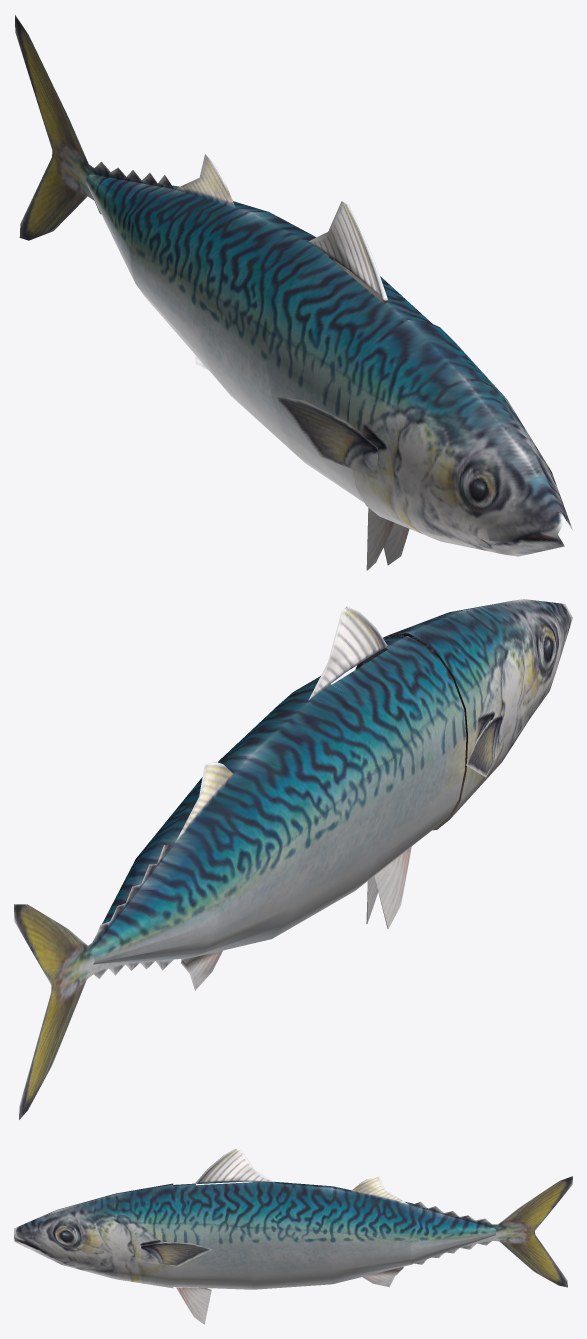
File: sabaAnime_Illustration0216.glb
3 renders of one model, top to bottom at view 1: azimuth 30°, elevation 25°; view 2: azimuth 150°, elevation 25°; view 3: azimuth 270°, elevation 25°, orthographic. The views are drawn at different scales.
Parts seen in each view (by area): view 1: saba; view 2: saba; view 3: saba.
Part boxes in pixels (left/top/right/bottom): saba: left=15, top=15, right=572, bottom=570; saba: left=14, top=599, right=572, bottom=1119; saba: left=14, top=1149, right=572, bottom=1324.
Bounding box in the file's own units: 0.6466 × 1.09 × 3.19.
Materials: 2 (2 with a texture image).
